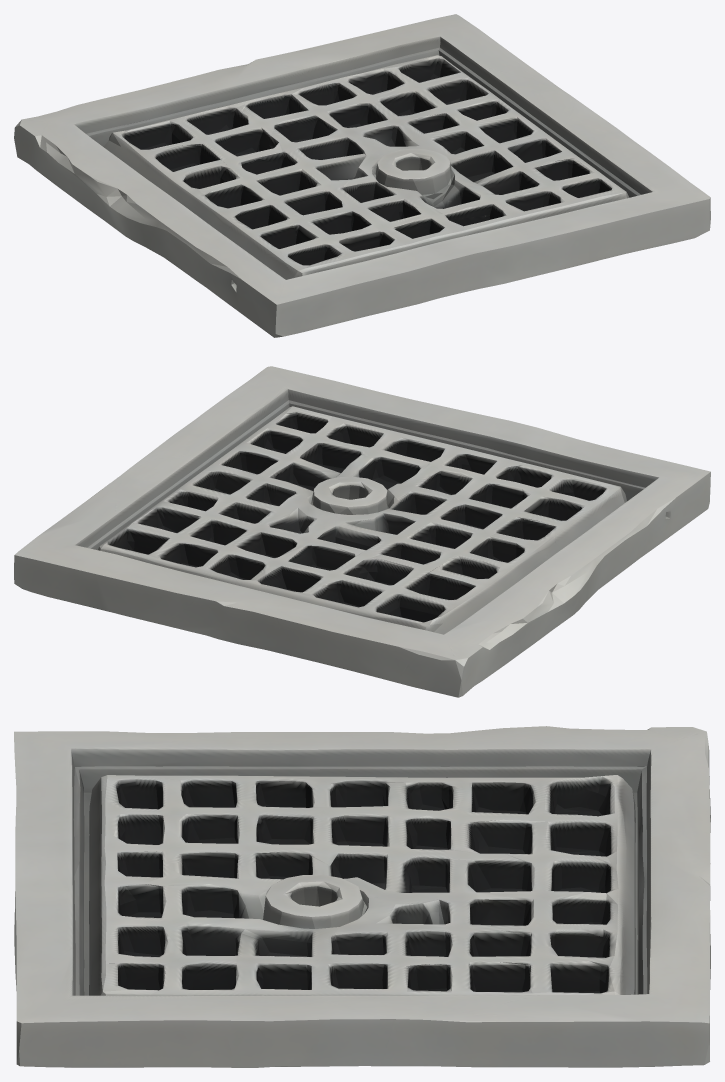
Rendered from drain.glb.
3 renders of one model, top to bottom at view 1: azimuth 30°, elevation 25°; view 2: azimuth 150°, elevation 25°; view 3: azimuth 270°, elevation 25°, orthographic. The views are drawn at different scales.
Parts seen in each view (by area): view 1: model; view 2: model; view 3: model.
Boxes of the visible parts, x1,y1,x2,y2 form: model: (14,14,710,337); model: (14,366,710,697); model: (14,726,710,1067).
Bounding box in the file's own units: 1.9 × 0.1616 × 1.88.
1 material, 1 textured.
